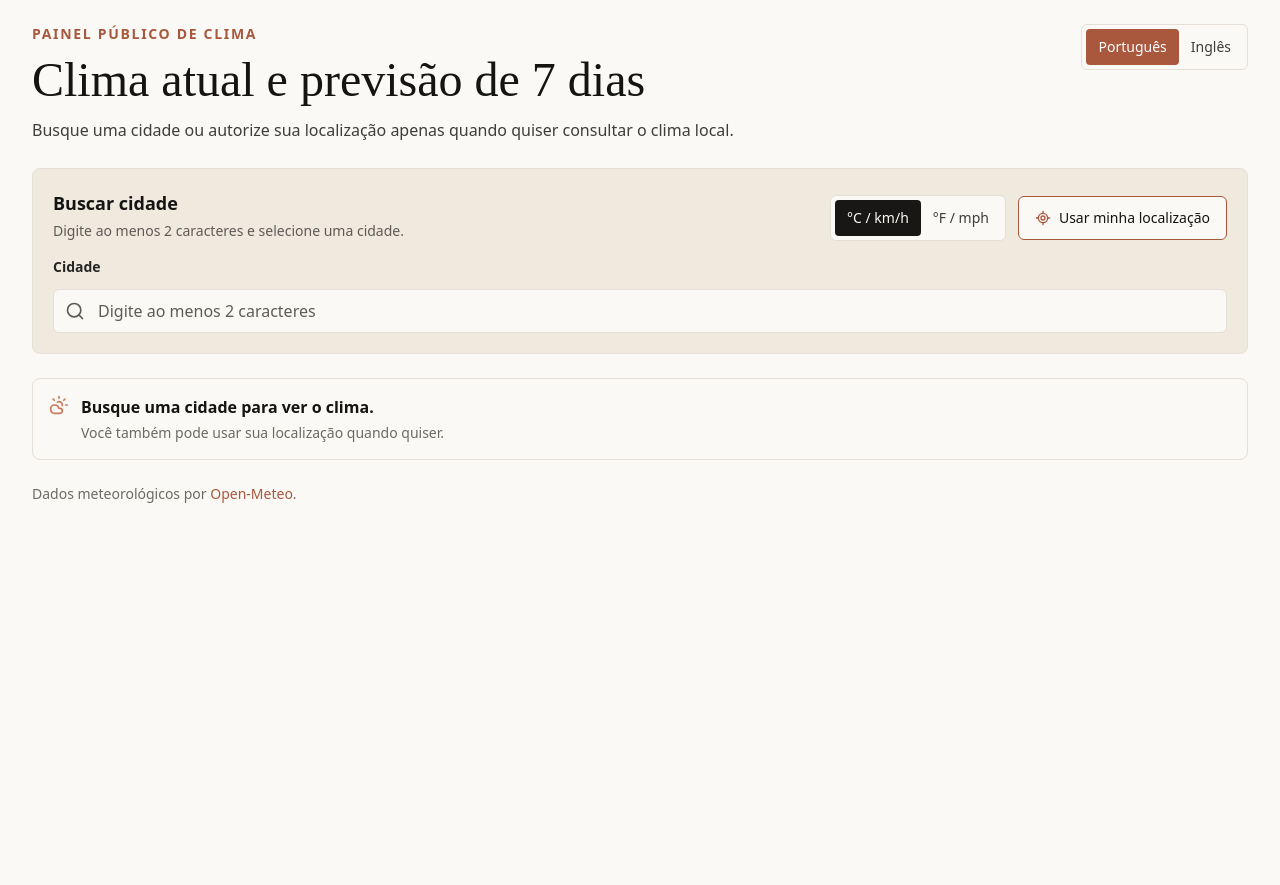
WeatherPage › should switch language without losing loaded weather
This screenshot has width=1280, height=885.
Type "Curitiba" into the dropdown named "Buscar cidade".
click(640, 311); type("Curitiba")  # box [53,289,1227,333]
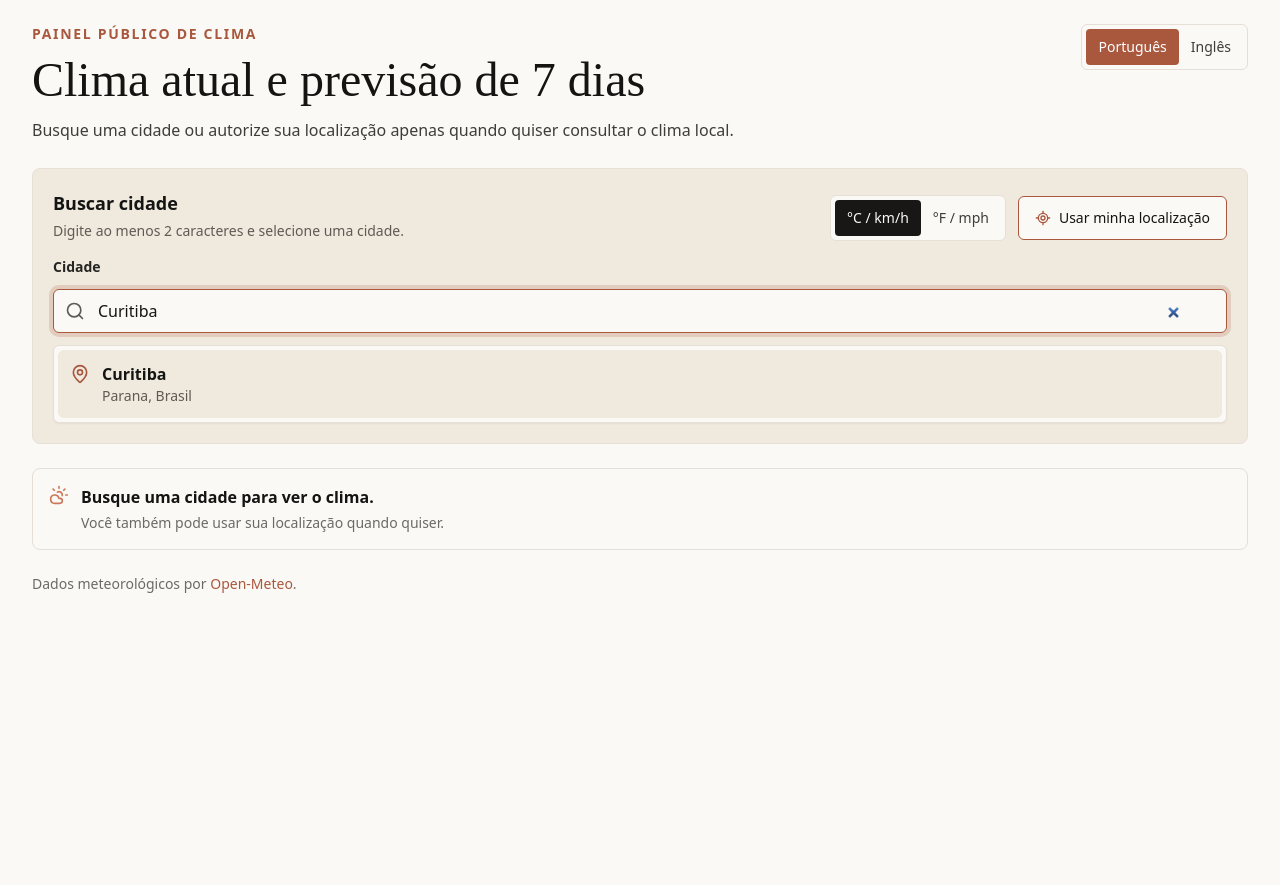
Click the option with aria-label "Selecionar Curitiba, Parana, Brasil".
click(134, 374)  # box [58,350,1222,418]
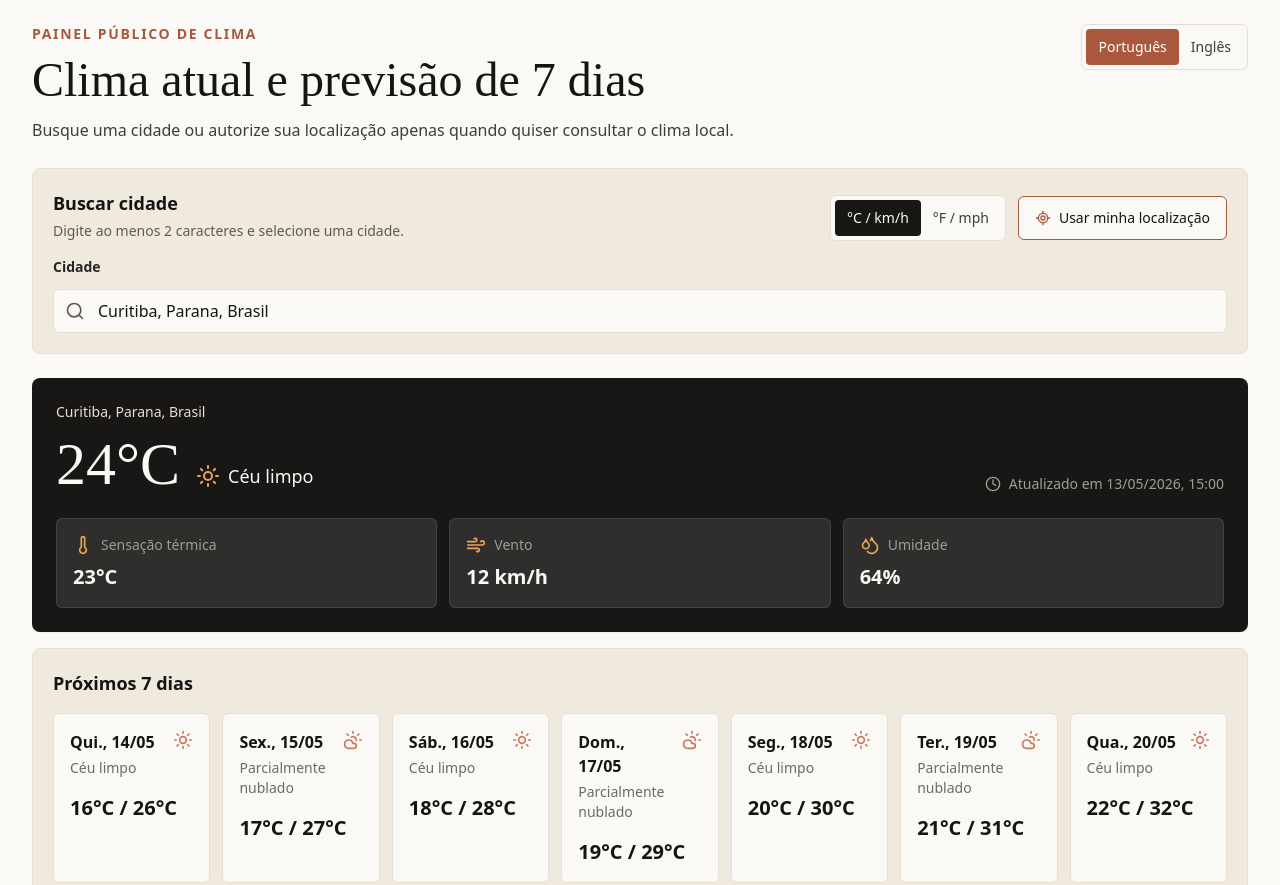
Click the radio button labelled "Inglês".
click(1211, 47)  # box [1179,29,1243,65]
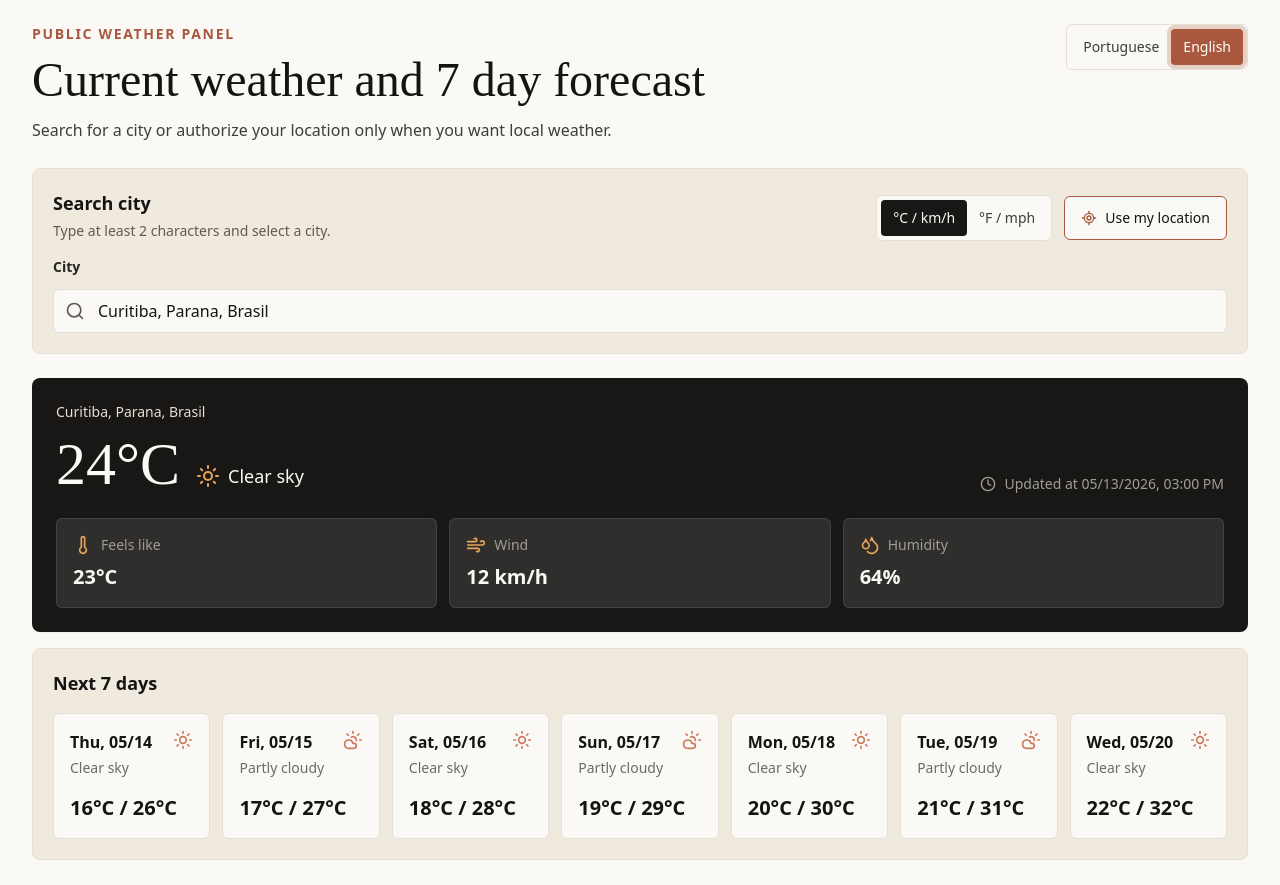
Check: the heading "24°C" is shown, box [56,434,180,494]
Check: the heading "Next 7 days" is shown, box [53,671,157,695]
Check: the text "Clear sky" is shown, box [196,462,304,490]
